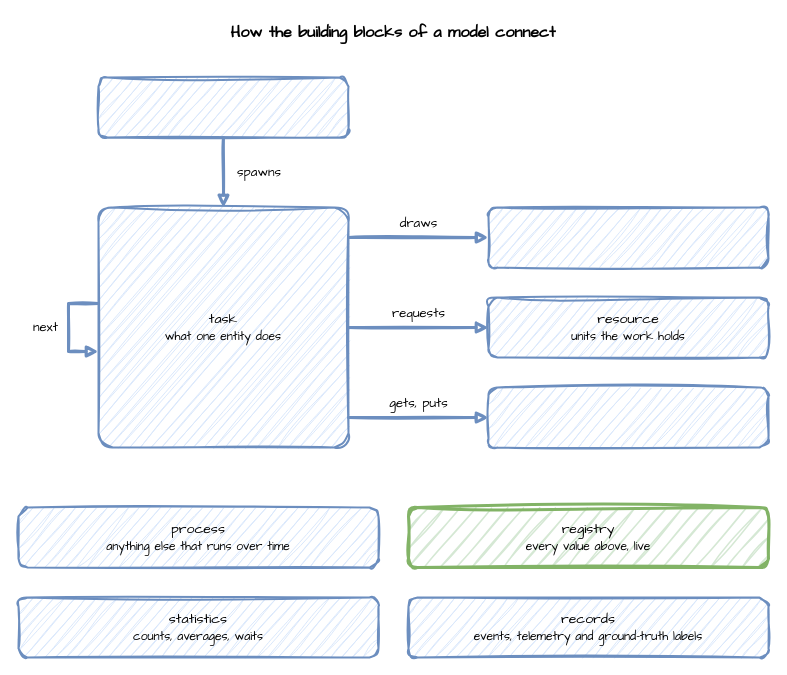
Image size: 787x675. Some labels were removed from this diagram. The box of each missing label's shape, as (x1, y1, x2, y2) in pixels:
arrival how often an entity enters: (97, 76, 349, 138)
container, store an amount, or items, taken and added: (487, 386, 769, 448)
service how long the work takes: (487, 206, 769, 268)
